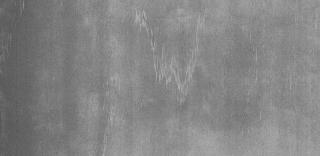silk spot: (132, 10, 204, 108)
